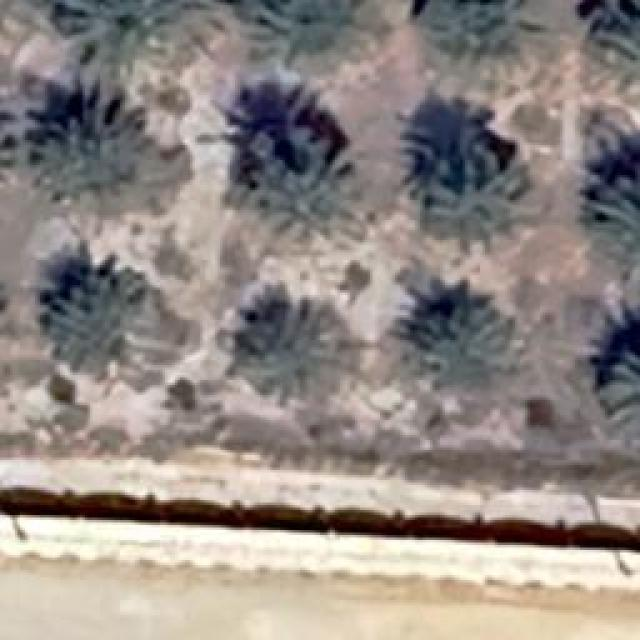PalmTree: (8, 42, 316, 157), (30, 90, 185, 205), (44, 260, 162, 378), (408, 0, 550, 95), (255, 130, 360, 242), (390, 302, 510, 400), (422, 150, 536, 248), (232, 288, 332, 396), (60, 0, 170, 78), (580, 154, 640, 252), (585, 0, 640, 95), (600, 340, 638, 425), (0, 108, 20, 200)
